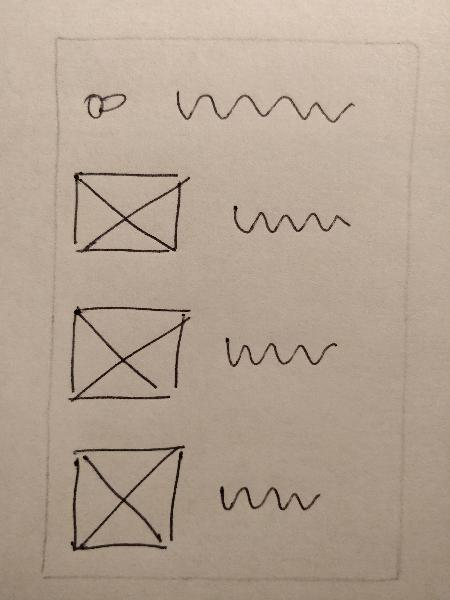image: (62, 442, 193, 559), (62, 299, 196, 409), (66, 159, 192, 266)
switch: (76, 79, 134, 126)
text: (165, 79, 361, 138), (219, 190, 356, 243), (217, 328, 343, 381), (214, 473, 325, 524)
